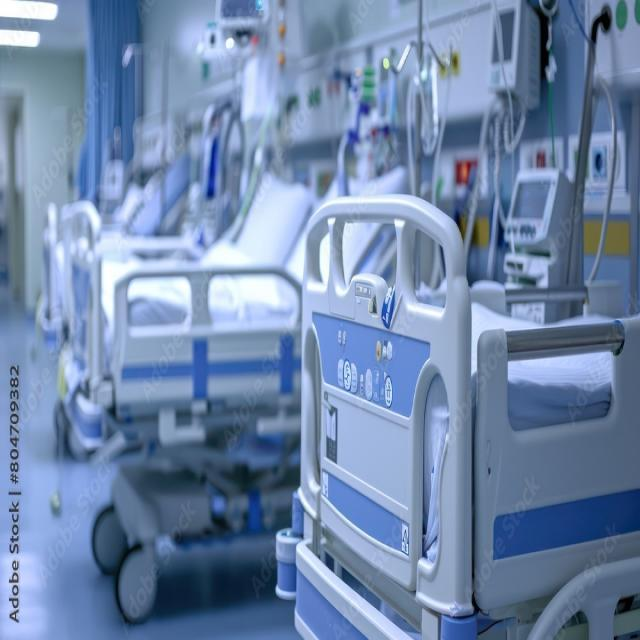bed: (292, 187, 638, 638)
